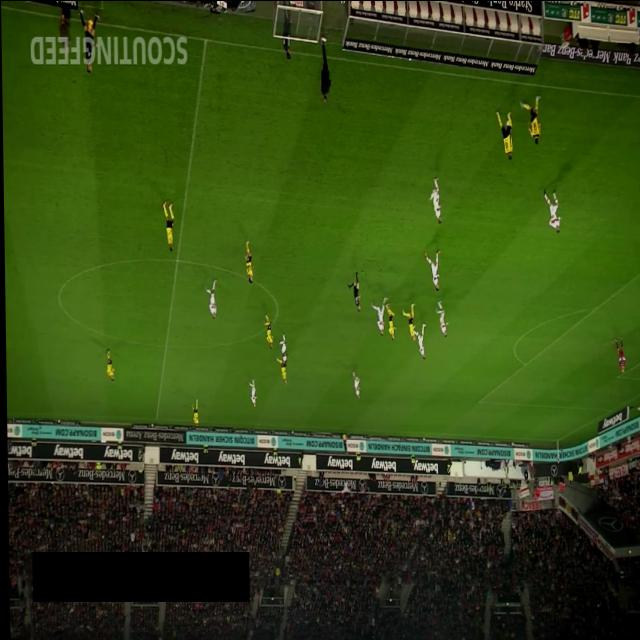goalkeeper: (611, 336, 625, 374)
player: (518, 94, 541, 144), (494, 109, 512, 160), (542, 188, 559, 232), (369, 296, 386, 336), (423, 249, 439, 291), (160, 200, 173, 250), (429, 176, 442, 224), (402, 302, 415, 342), (204, 278, 216, 318), (434, 300, 447, 336), (412, 322, 424, 359), (243, 240, 252, 284), (384, 302, 394, 340), (104, 348, 113, 382), (263, 313, 271, 349), (277, 333, 285, 362), (350, 369, 358, 398), (247, 379, 255, 407), (278, 358, 285, 384), (190, 398, 196, 426)
referee: (77, 7, 100, 73), (345, 272, 359, 312), (338, 430, 346, 455)
